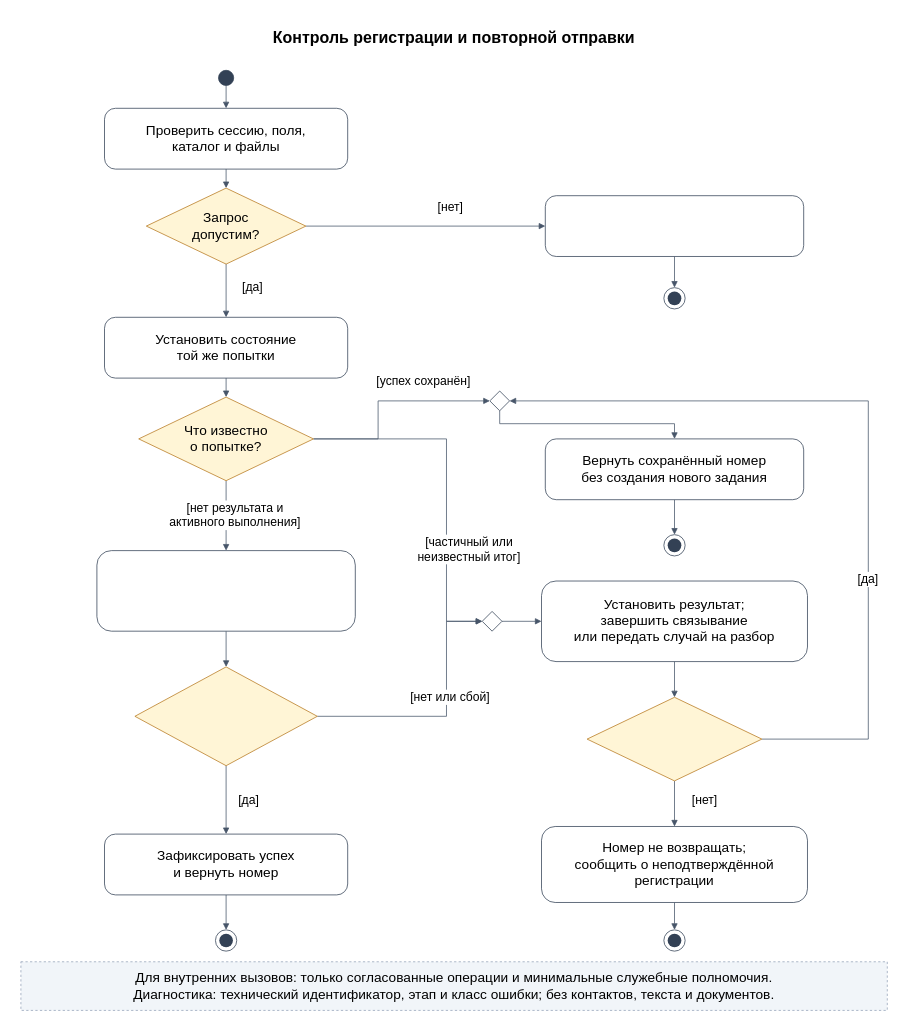
Some shapes in this 907 by 1024 pixel diagram are drawn without their labels. Each missing label, with the centre of its shape:
Вернуть ошибку ввода; задание не создавать: point (674, 225)
Выполнить: контакт, правило, создание задания, связывание документов (рисунок 3): point (225, 590)
Итог подтверждён?: point (674, 739)
Обязательные операции завершены?: point (225, 716)
